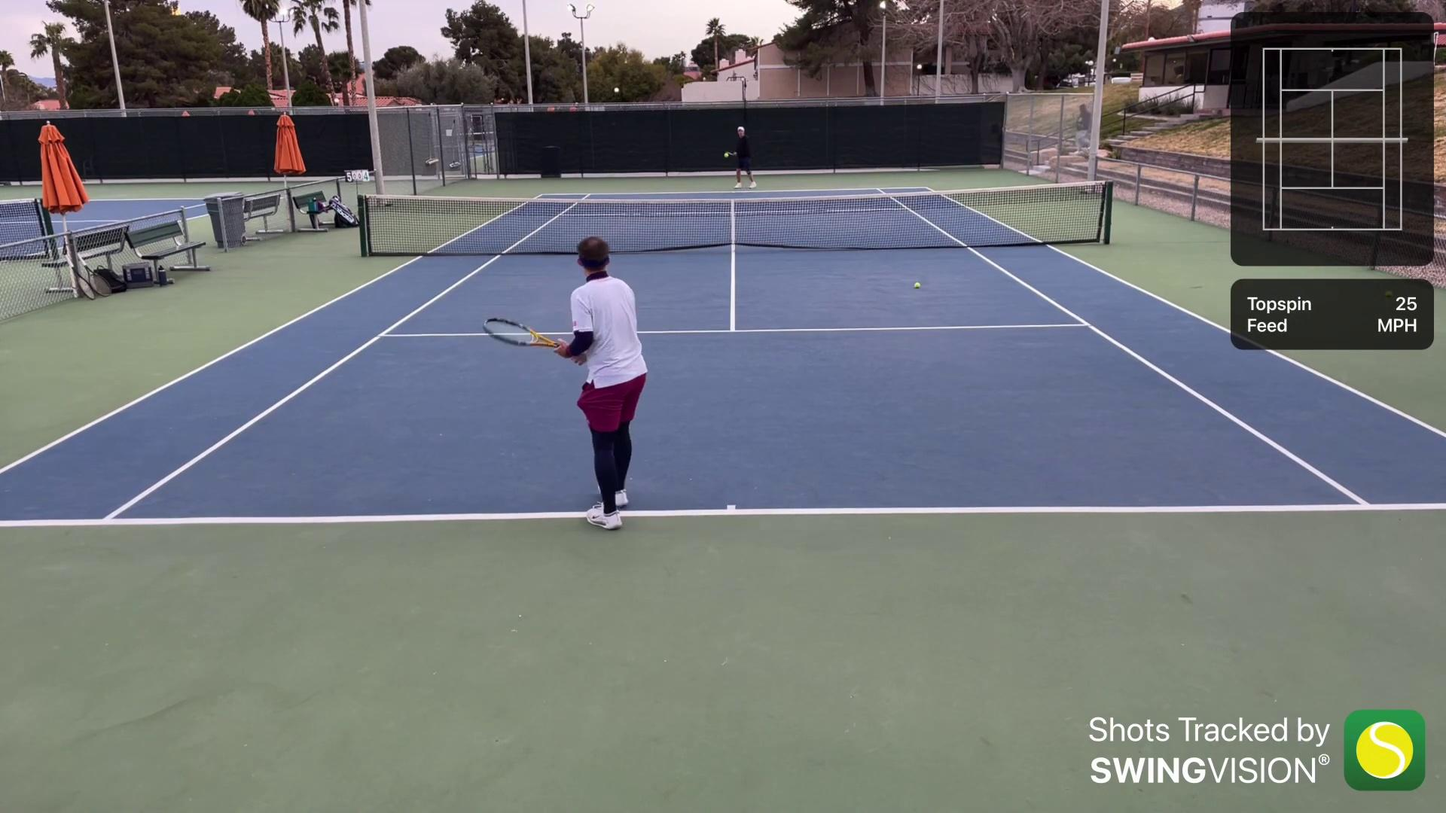ball: (913, 279, 921, 291), (722, 152, 732, 159)
